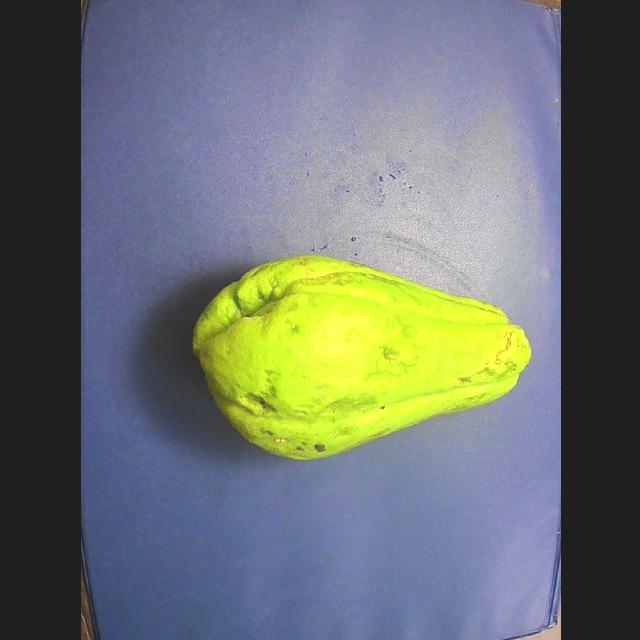chayote: (193, 255, 530, 459)
